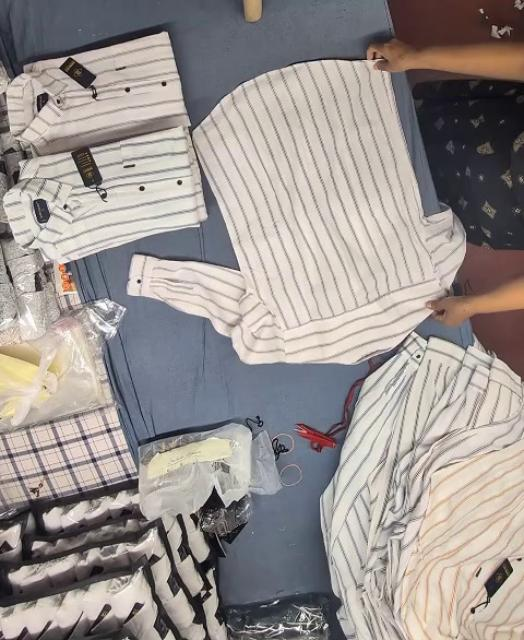new-garment: (157, 60, 464, 364)
